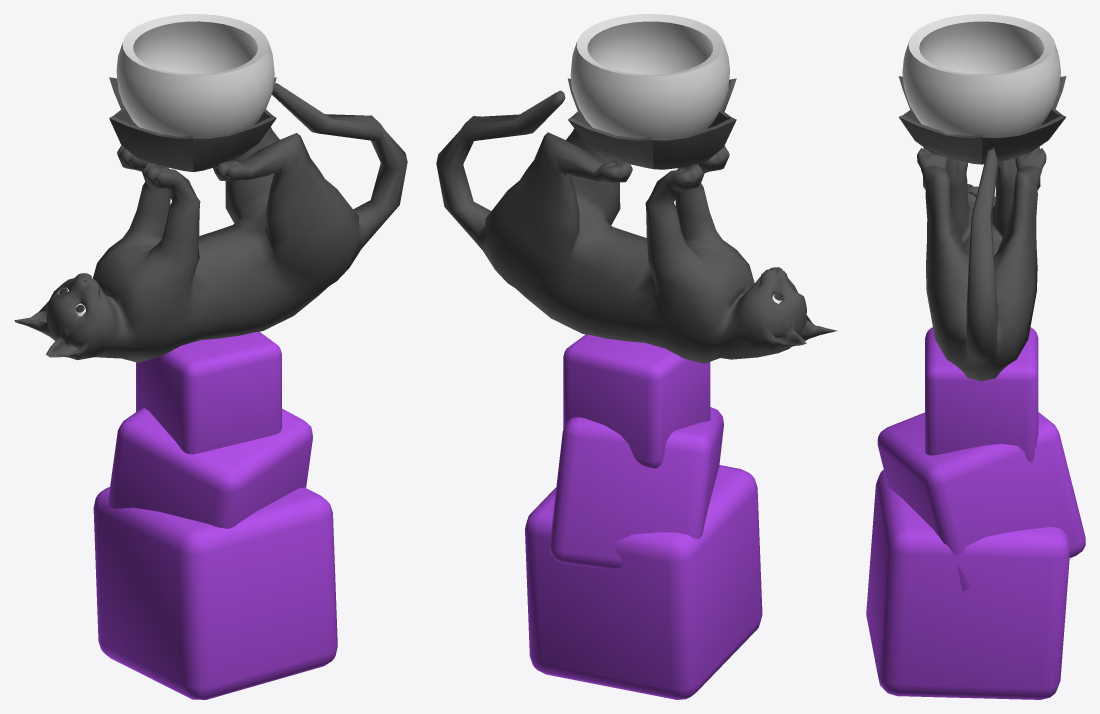
The model's file is cat1.fbx.
The picture shows the model from 3 angles, left to right: view 1: azimuth 30°, elevation 25°; view 2: azimuth 150°, elevation 25°; view 3: azimuth 270°, elevation 25°; orthographic projection.
Parts seen in each view (by area): view 1: Cube.020, kedi, fanus, tabak.002; view 2: Cube.020, kedi, fanus, tabak.002; view 3: Cube.020, kedi, fanus, tabak.002.
Boxes of the visible parts, x1=… form: Cube.020: x1=93, y1=331, x2=337, y2=699; kedi: x1=14, y1=83, x2=407, y2=362; fanus: x1=116, y1=14, x2=274, y2=136; tabak.002: x1=109, y1=77, x2=276, y2=171; Cube.020: x1=525, y1=334, x2=762, y2=699; kedi: x1=436, y1=90, x2=837, y2=363; fanus: x1=570, y1=14, x2=729, y2=138; tabak.002: x1=567, y1=78, x2=736, y2=169; Cube.020: x1=866, y1=327, x2=1085, y2=699; kedi: x1=917, y1=146, x2=1046, y2=381; fanus: x1=902, y1=14, x2=1060, y2=135; tabak.002: x1=898, y1=76, x2=1066, y2=164.
Bounding box in the file's own units: 156 × 243 × 78.25.
